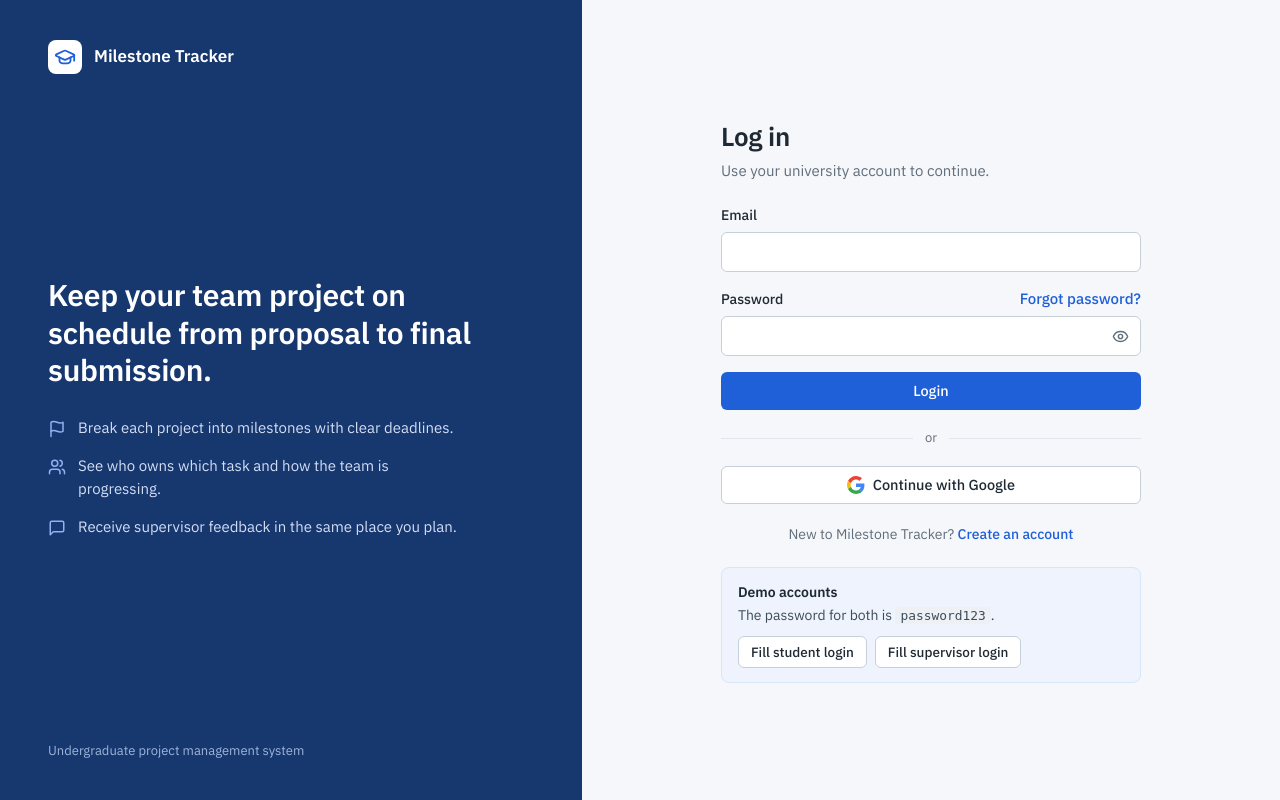
Scenario: authentication › shows validation messages instead of submitting an empty form
Click the button "Login". click: (931,391)
box: [721,372,1141,410]
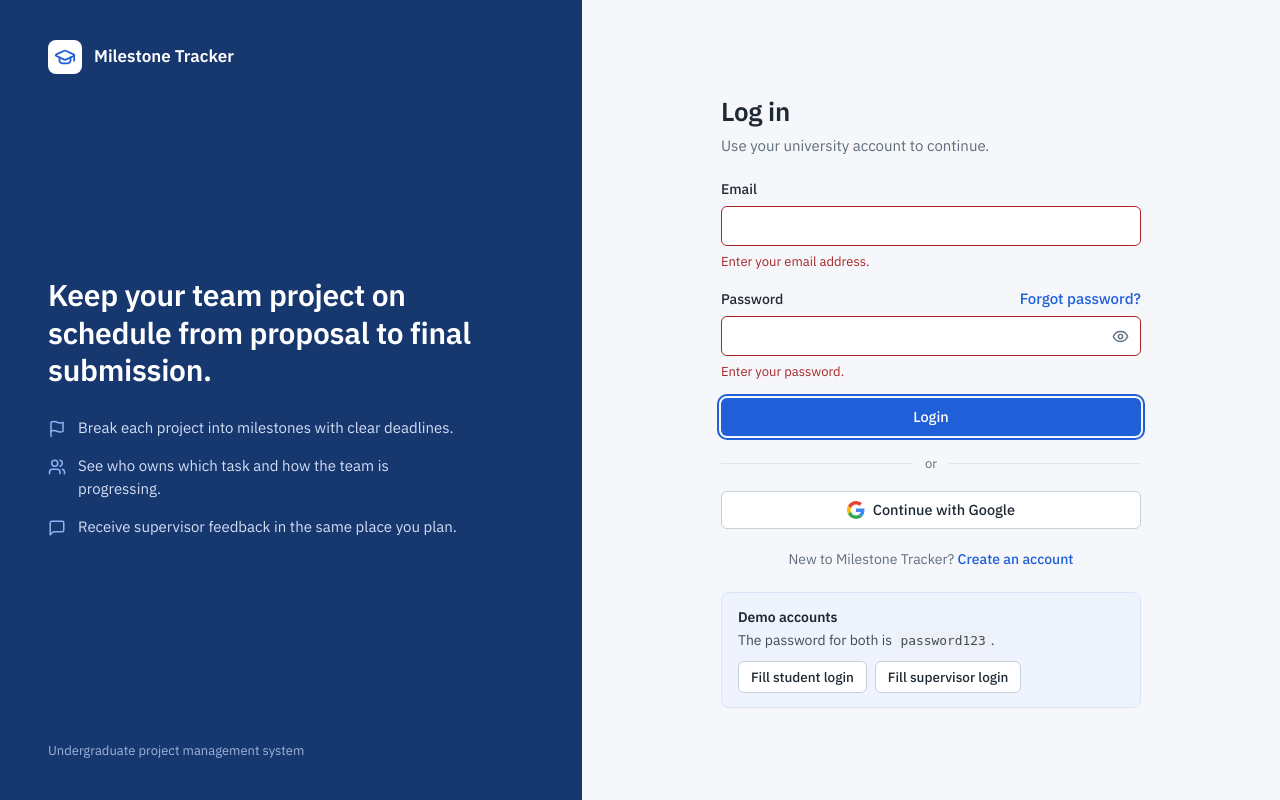
Now the text "Enter your email address." is shown, box [721,253,870,270]
Now the text "Enter your password." is shown, box [721,363,844,380]
